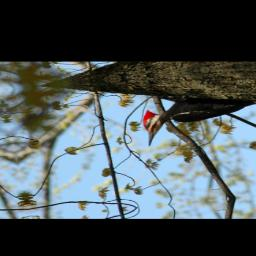Woodpecker: (134, 87, 256, 150)
